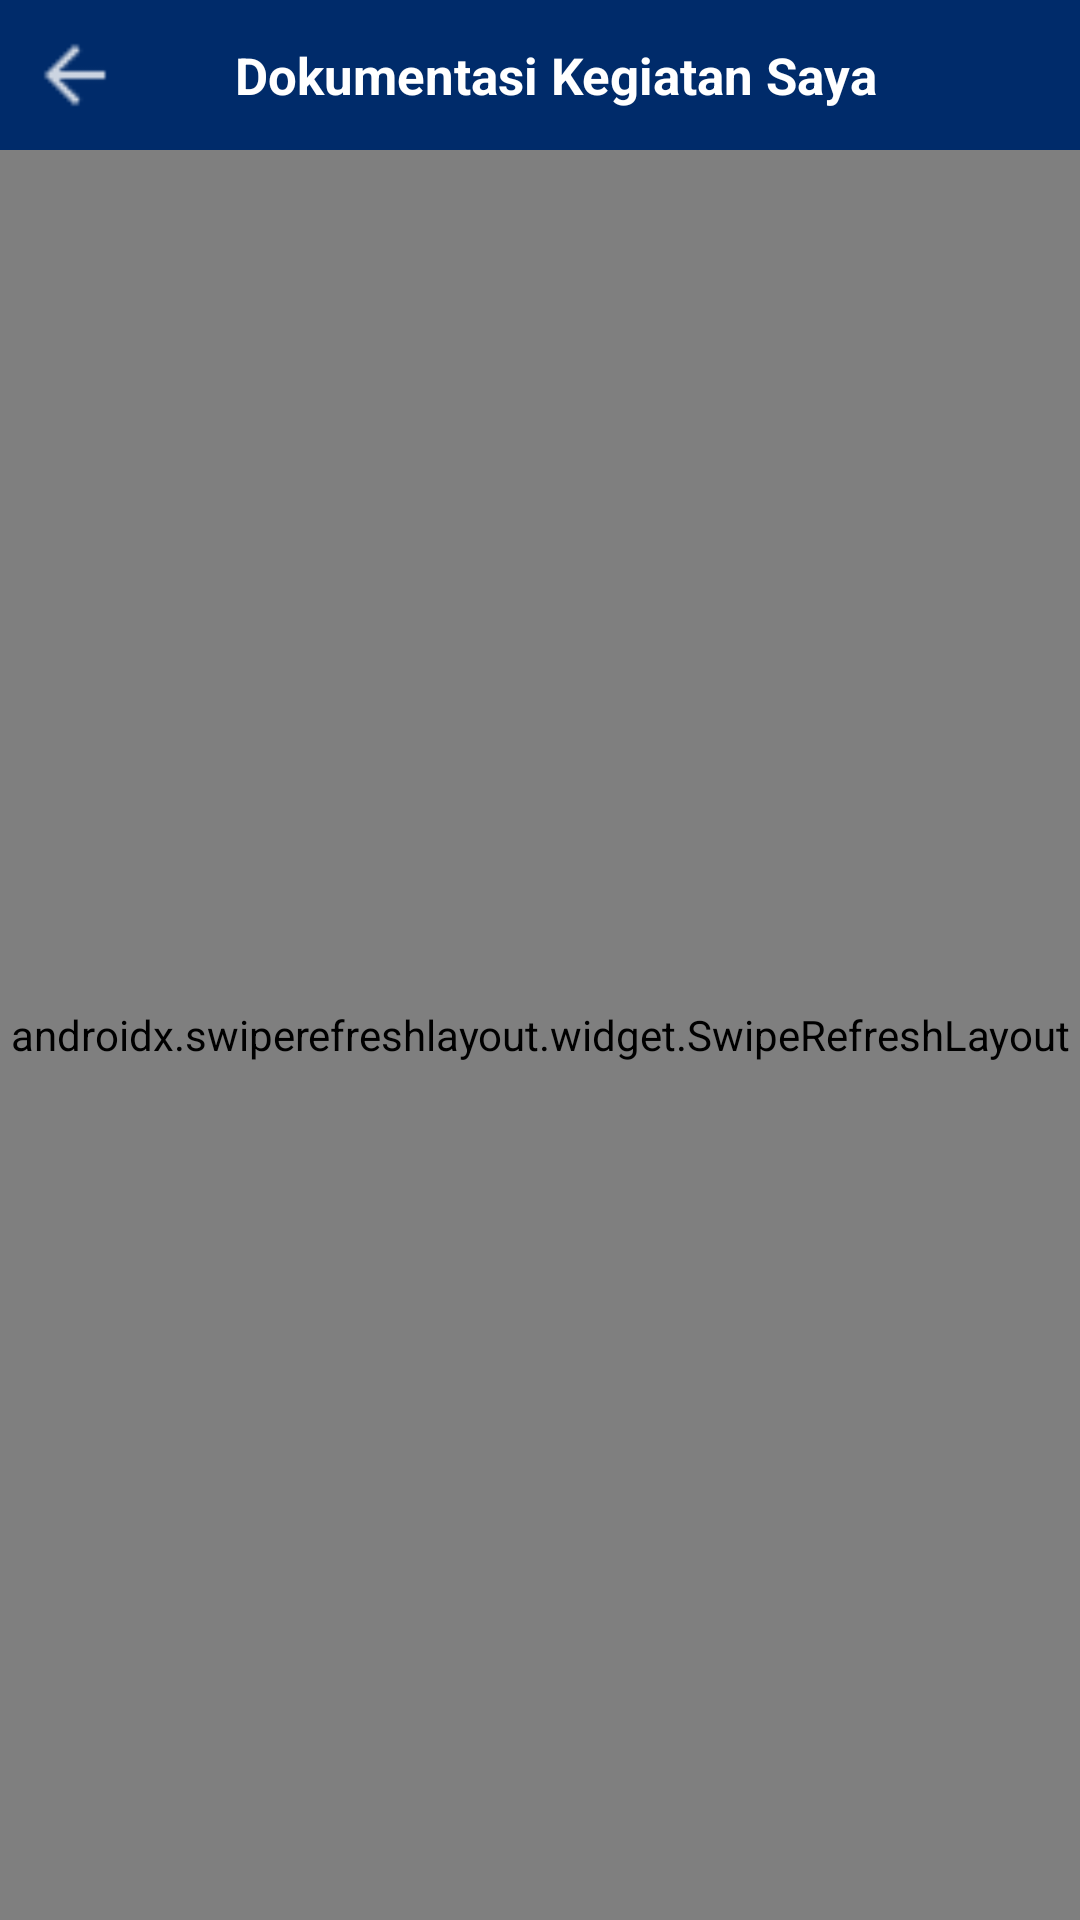

Named icons in this screenshot (1080x1920) and their bounding boxes, (x1, y1, x2, y2):
back: (44, 44, 106, 106)
